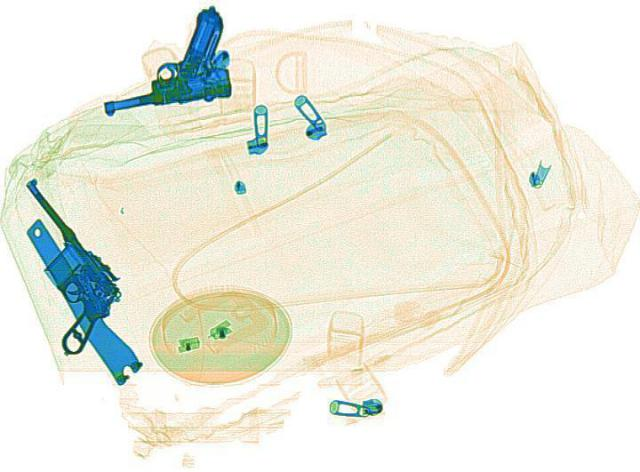Gun: (78, 5, 244, 115), (0, 205, 139, 333)
